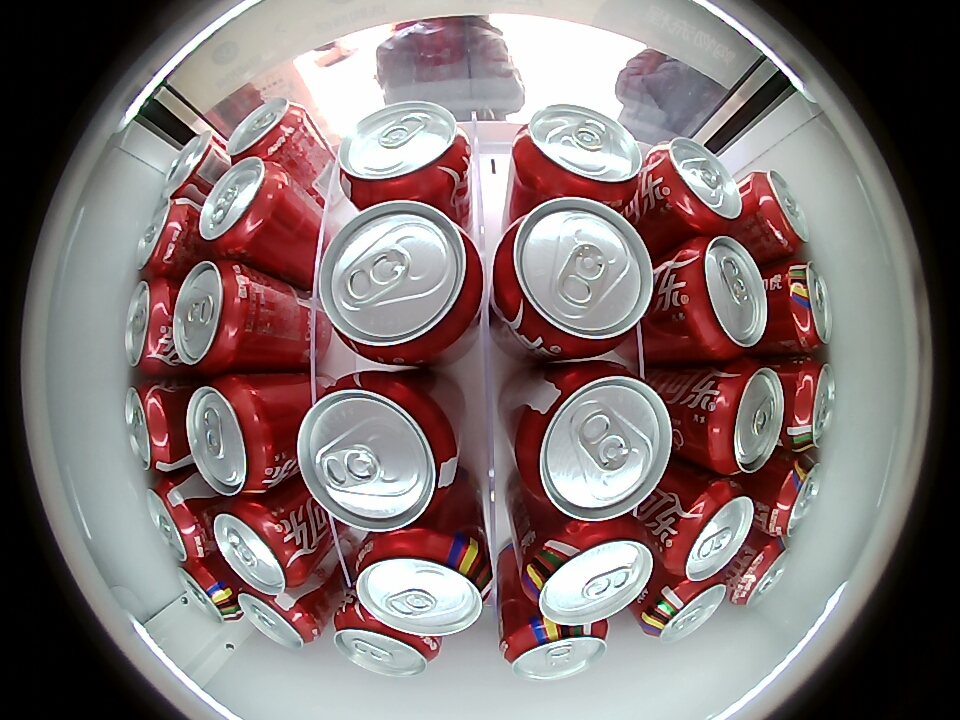kele: (315, 199, 484, 366), (493, 196, 655, 357), (296, 371, 458, 531), (514, 361, 674, 521), (353, 530, 491, 636), (520, 518, 655, 626), (339, 101, 470, 202), (512, 103, 642, 201), (675, 235, 767, 359), (187, 376, 276, 496), (664, 478, 755, 582), (172, 259, 255, 372), (702, 362, 784, 475), (648, 137, 743, 234), (197, 157, 288, 257), (213, 498, 306, 595), (332, 609, 439, 677), (500, 617, 609, 681), (640, 576, 726, 642), (744, 170, 810, 255), (146, 476, 208, 563), (776, 260, 833, 353), (762, 454, 823, 538), (238, 588, 320, 650), (124, 382, 180, 472), (228, 97, 304, 163), (124, 278, 176, 373), (784, 359, 836, 450), (136, 196, 193, 276), (729, 537, 791, 607), (163, 131, 225, 199), (177, 559, 239, 624)
